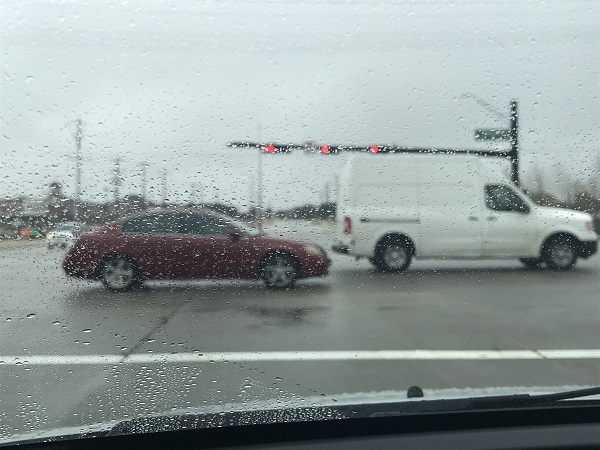car: (63, 207, 328, 294)
truck: (336, 153, 595, 273)
